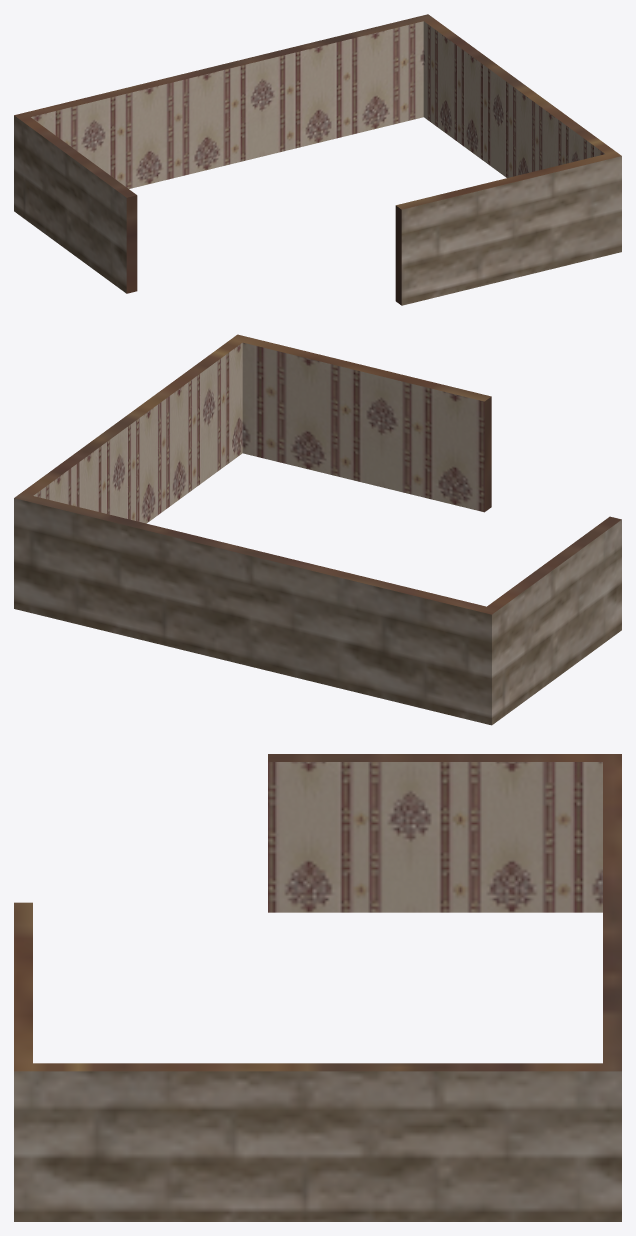
Rendered from 0_wall_6.dae.
The picture shows the model from 3 angles, top to bottom: view 1: azimuth 30°, elevation 25°; view 2: azimuth 150°, elevation 25°; view 3: azimuth 270°, elevation 25°; orthographic projection. The views are drawn at different scales.
Parts seen in each view (by area): view 1: Plane.008; view 2: Plane.008; view 3: Plane.008.
Boxes of the visible parts, left/top/right/bottom form: Plane.008: left=14, top=14, right=621, bottom=305; Plane.008: left=14, top=334, right=621, bottom=725; Plane.008: left=14, top=754, right=621, bottom=1221.
Bounding box in the file's own units: 15.8 × 12.8 × 3.5.
Materials: 1 (1 with a texture image).
